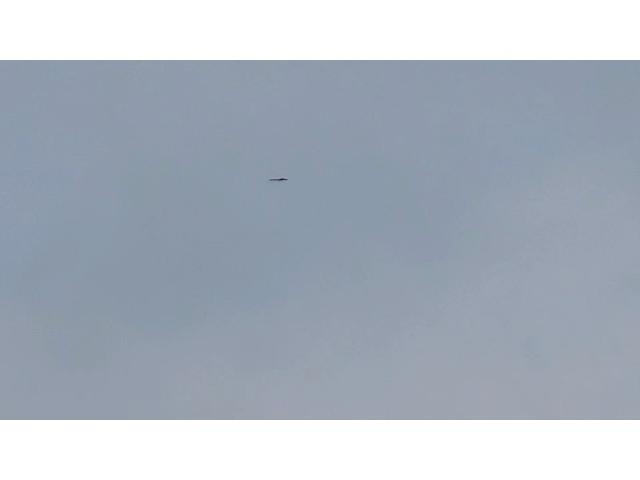Anti-Drone: (268, 176, 288, 184)
